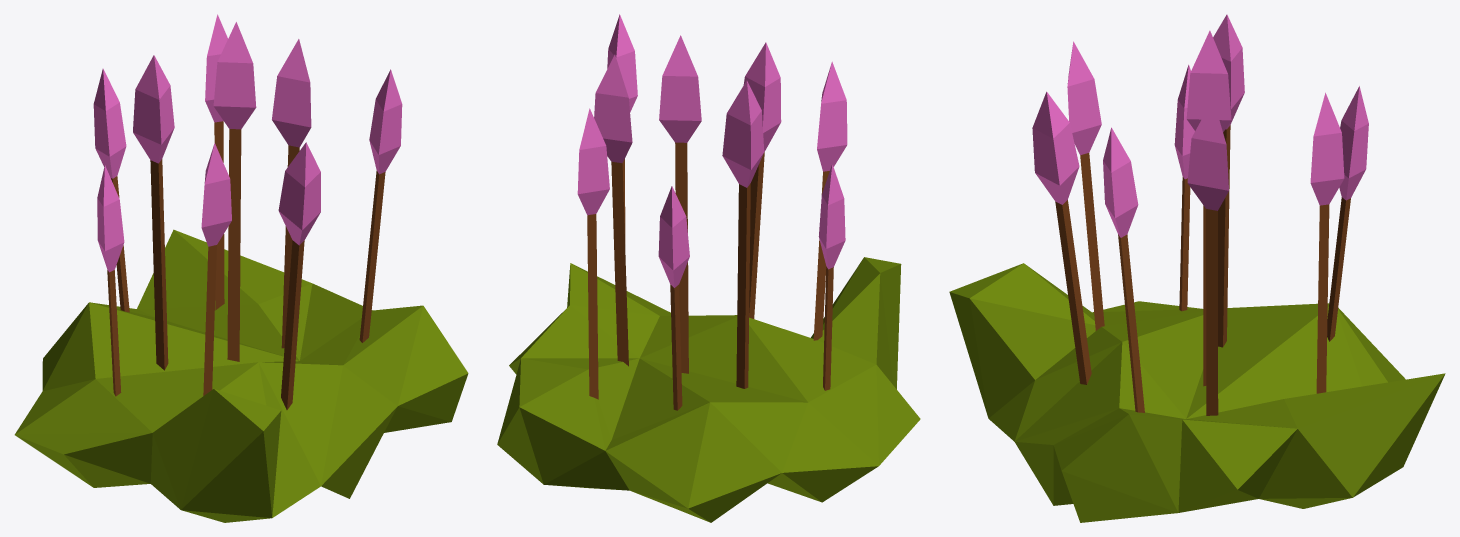
The model's file is LargeLavender.fbx.
The picture shows the model from 3 angles, left to right: view 1: azimuth 30°, elevation 25°; view 2: azimuth 150°, elevation 25°; view 3: azimuth 270°, elevation 25°; orthographic projection. The views are drawn at different scales.
Visible parts, largest first — view 1: LargeLavender; view 2: LargeLavender; view 3: LargeLavender.
Boxes of the visible parts, x1,y1,x2,y2 form: LargeLavender: (14,14,468,522); LargeLavender: (497,14,920,522); LargeLavender: (949,14,1445,522).
Size of the model in its own units: 59.45 by 67.01 by 65.29.
